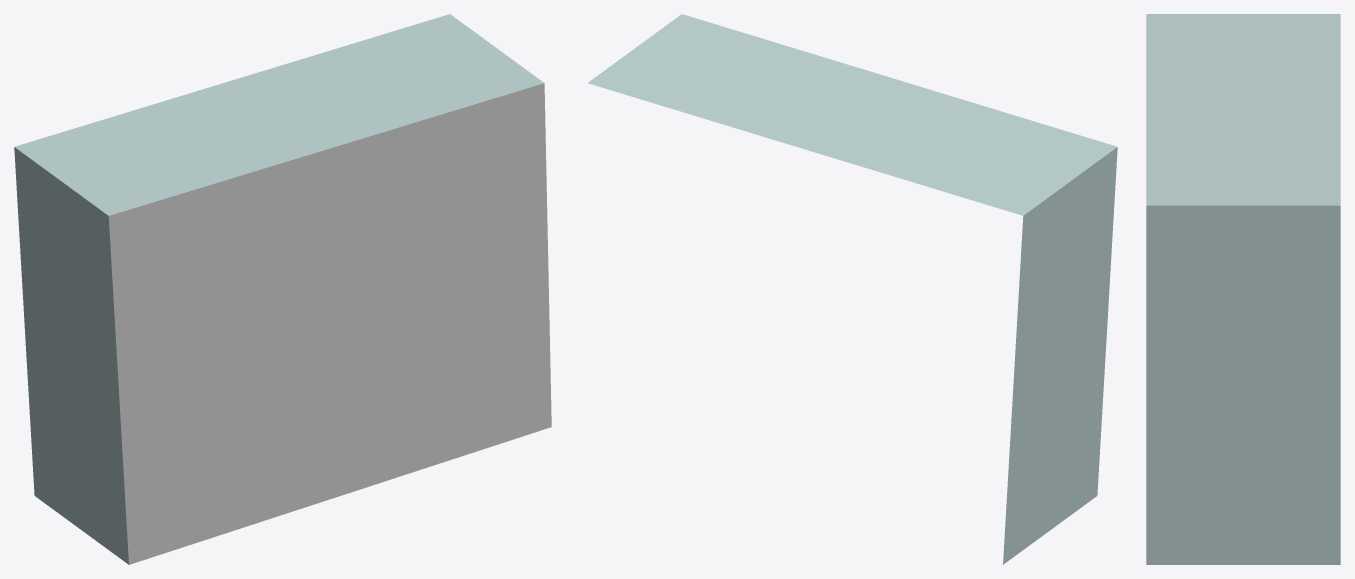
3 views of the same model, side by side, from view 1: azimuth 30°, elevation 25°; view 2: azimuth 150°, elevation 25°; view 3: azimuth 270°, elevation 25° (orthographic). The views are drawn at different scales.
Visible parts, largest first — view 1: 0_1_2_1_0_2_0_2_3; view 2: 0_1_2_1_0_2_0_2_3; view 3: 0_1_2_1_0_2_0_2_3.
Boxes of the visible parts, bbox=[...] form: 0_1_2_1_0_2_0_2_3: bbox=[14, 14, 551, 564]; 0_1_2_1_0_2_0_2_3: bbox=[587, 14, 1117, 564]; 0_1_2_1_0_2_0_2_3: bbox=[1146, 14, 1340, 564].
Size of the model in its own units: 8.12 by 6.67 by 3.
